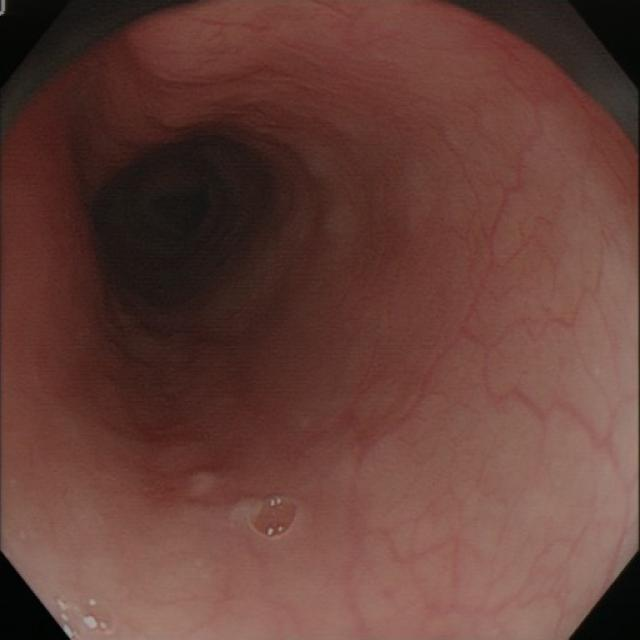E: (93, 126, 281, 340)
T: (244, 492, 303, 541), (83, 594, 119, 633)
U: (52, 594, 101, 639)
